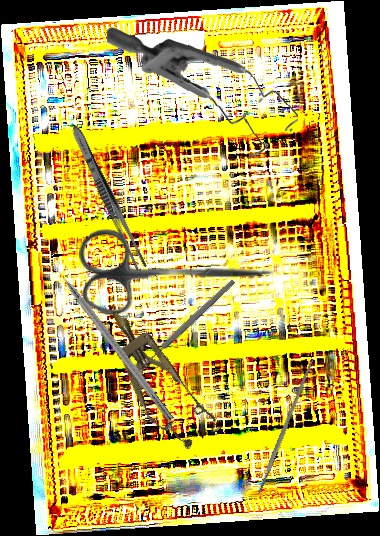Dressing Forceps: (67, 123, 150, 272)
Hook Surgical: (44, 253, 176, 423)
Iris Scissors: (78, 226, 275, 317)
Scalpel Handle: (255, 359, 315, 495)
Speculum: (106, 20, 300, 164), (90, 297, 224, 459)
Surgical Spoon: (129, 278, 237, 378)
